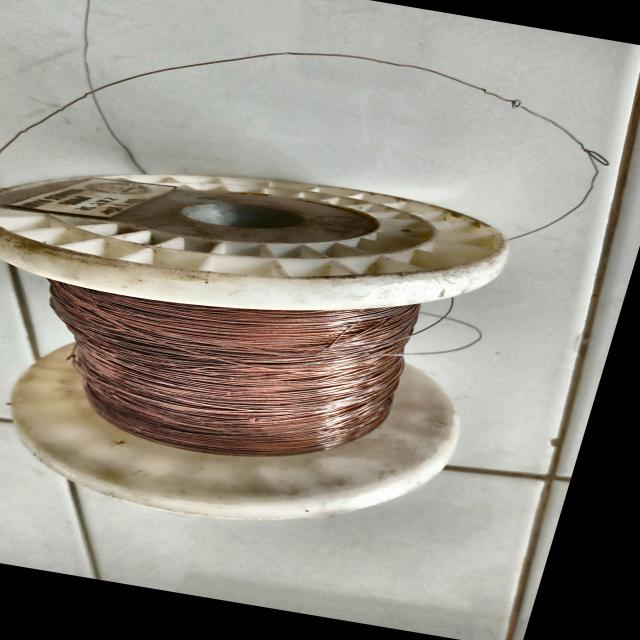Copper Wire: (0, 126, 549, 548)
